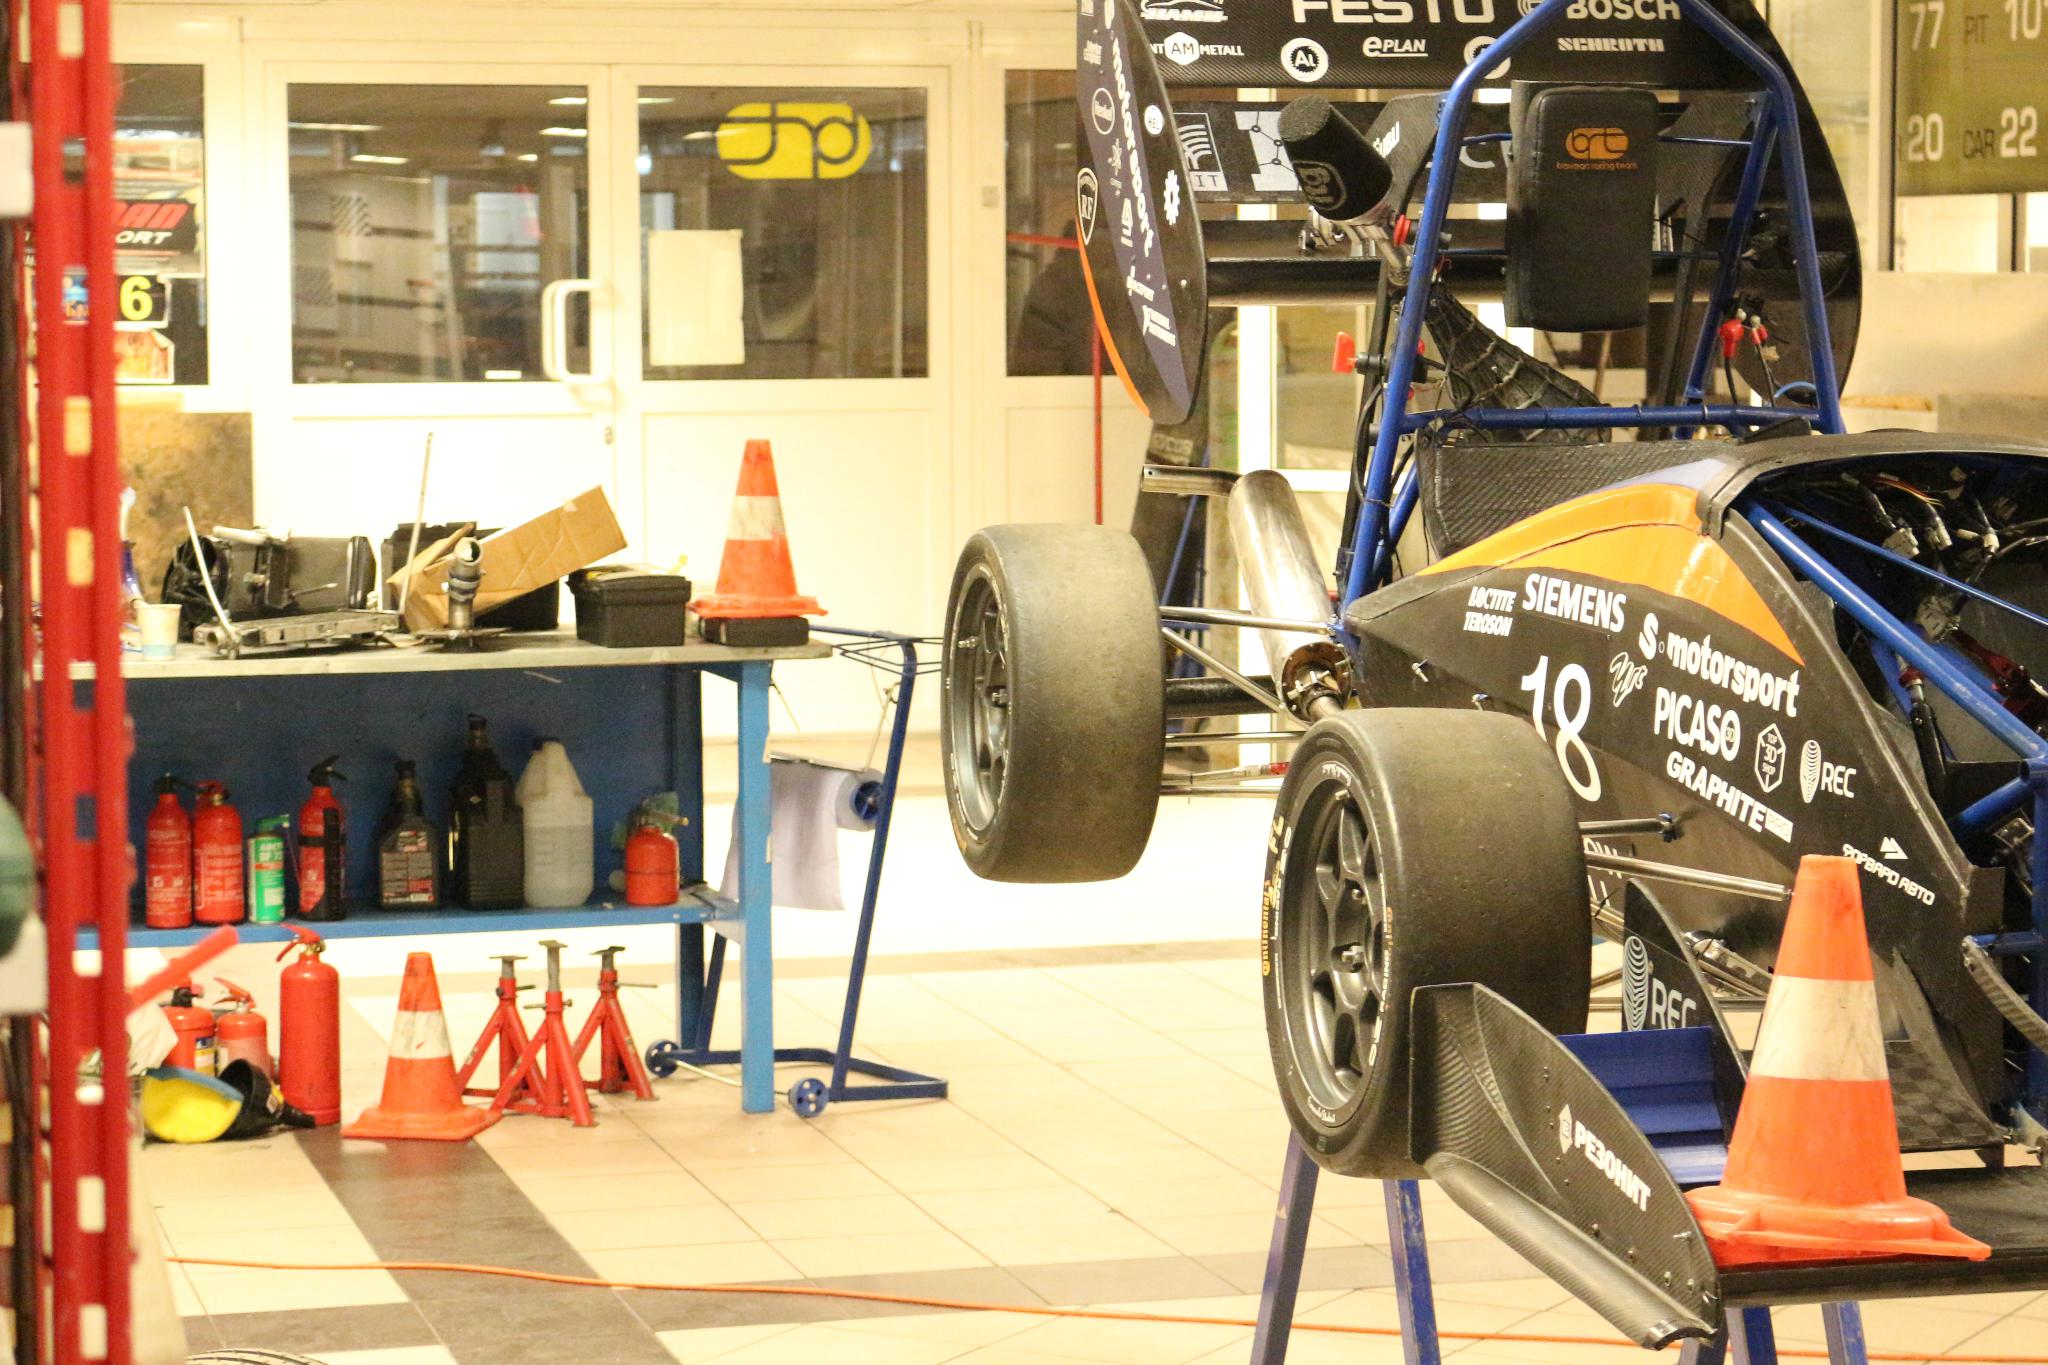Orange_Cone: (1652, 853, 1992, 1257), (323, 948, 512, 1153), (687, 434, 833, 628)
